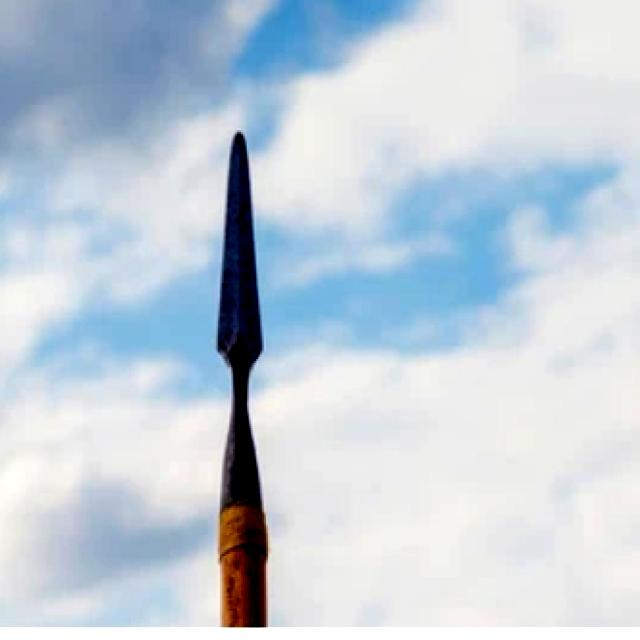spear: (203, 114, 285, 620)
